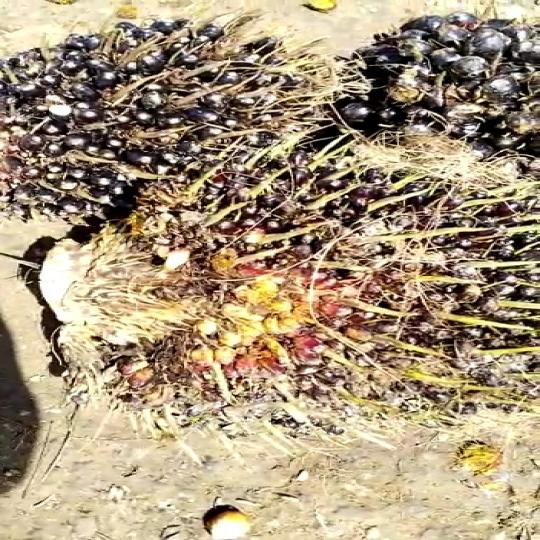mentah: (45, 141, 540, 449), (0, 0, 288, 212), (326, 11, 540, 145)
